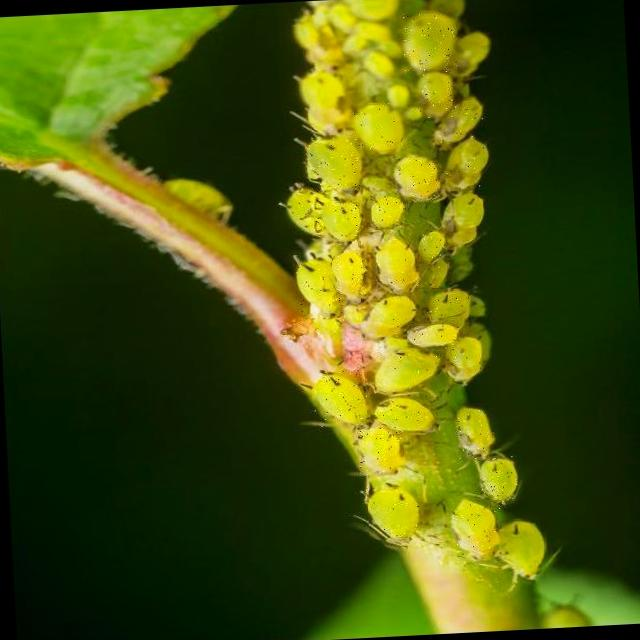aphid: (404, 11, 457, 71), (311, 372, 367, 425), (295, 259, 343, 318), (374, 348, 439, 391), (498, 520, 545, 579), (306, 138, 361, 188), (367, 488, 419, 538), (451, 500, 500, 553), (353, 103, 403, 154), (376, 238, 419, 290), (445, 137, 488, 188), (435, 99, 481, 146), (358, 427, 403, 473), (374, 397, 434, 431), (393, 156, 439, 199), (286, 188, 328, 235), (457, 407, 493, 458), (479, 457, 517, 503), (417, 71, 454, 118), (427, 290, 470, 327), (331, 251, 364, 297), (323, 201, 360, 241), (369, 296, 415, 327), (407, 323, 457, 347), (445, 337, 481, 369), (371, 195, 405, 228), (418, 231, 444, 259), (428, 259, 448, 288)
